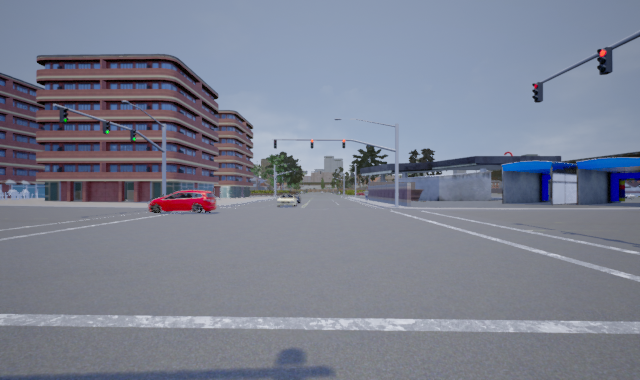vehicle: (148, 189, 216, 212), (276, 194, 298, 208)
